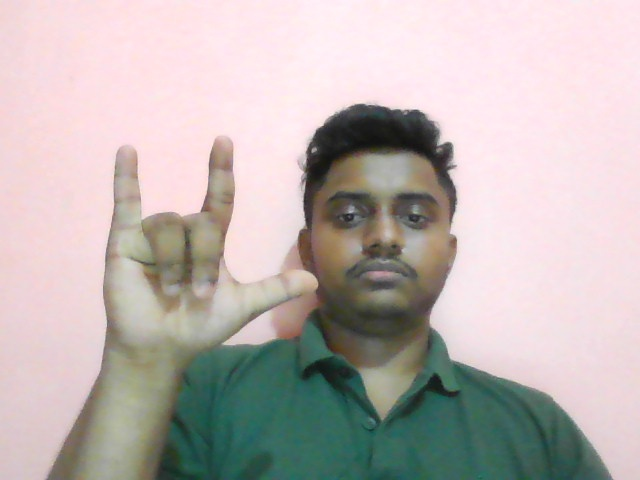I Love You: (95, 130, 324, 376)
